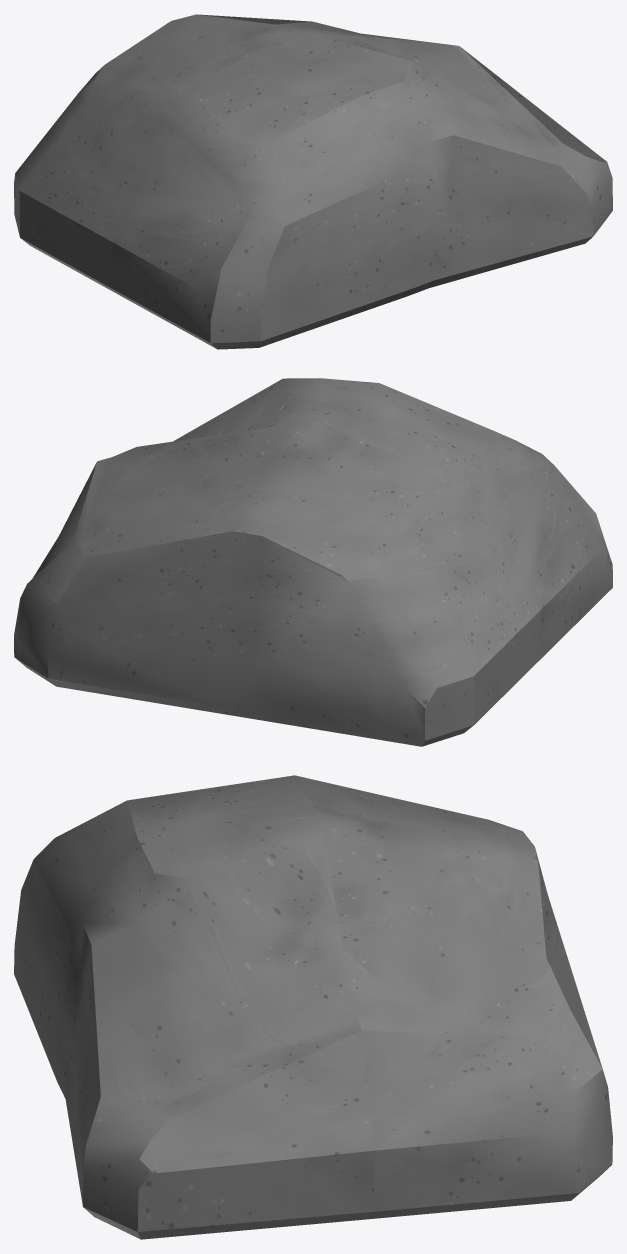
File: Gray_Rock_01.fbx
3 views of the same model, one above another, from view 1: azimuth 30°, elevation 25°; view 2: azimuth 150°, elevation 25°; view 3: azimuth 270°, elevation 25° (orthographic). The views are drawn at different scales.
Parts seen in each view (by area): view 1: Gray_Rock_01; view 2: Gray_Rock_01; view 3: Gray_Rock_01.
Boxes of the visible parts, bbox=[...] form: Gray_Rock_01: bbox=[14, 14, 612, 349]; Gray_Rock_01: bbox=[14, 378, 612, 746]; Gray_Rock_01: bbox=[14, 775, 612, 1239].
Size of the model in its own units: 2.41 by 2.03 by 1.
